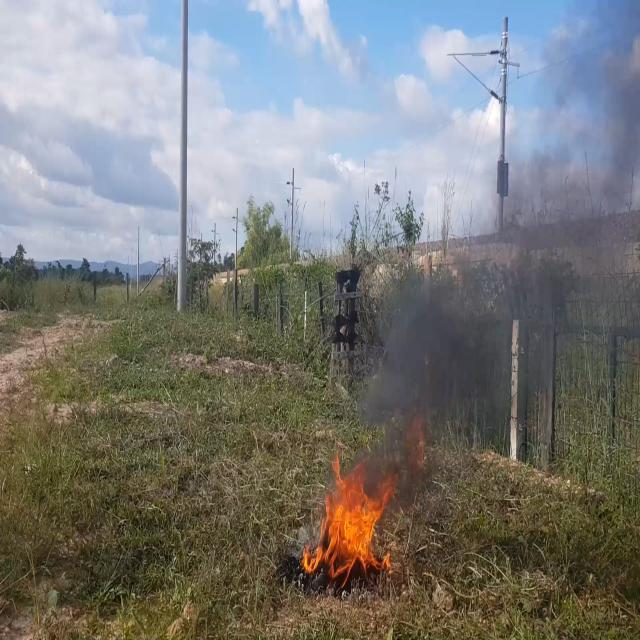Fire: (303, 453, 401, 584)
Smoke: (355, 0, 640, 442)
